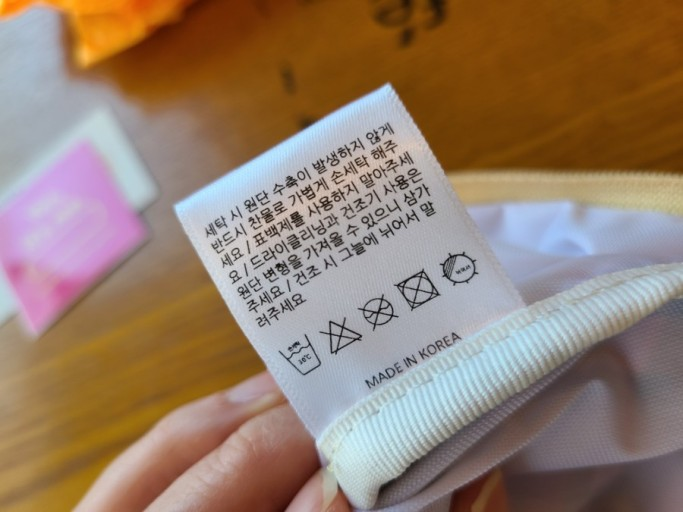KR_flat_dry_in_shade: (440, 251, 479, 287)
KR_hand_wash_30_neutral: (278, 334, 323, 375)
KR_no_dry_clean: (361, 295, 396, 327)
KR_no_tumble_dry: (396, 269, 440, 309)
